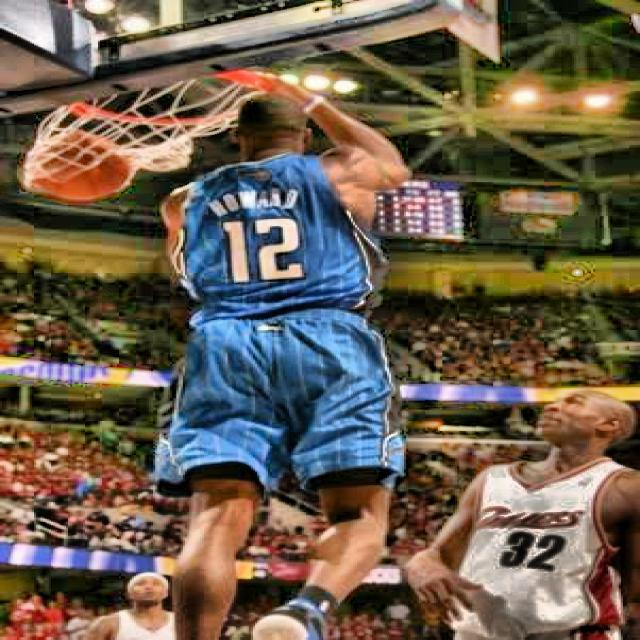board: (21, 128, 134, 202)
